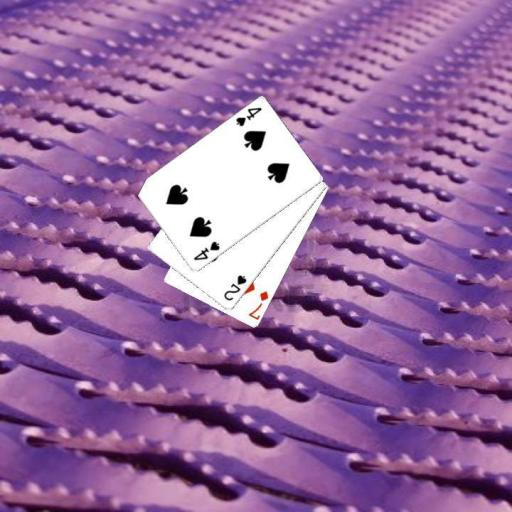card-corner: (221, 272, 248, 302), (246, 288, 270, 321), (191, 238, 221, 262), (233, 105, 263, 128)
